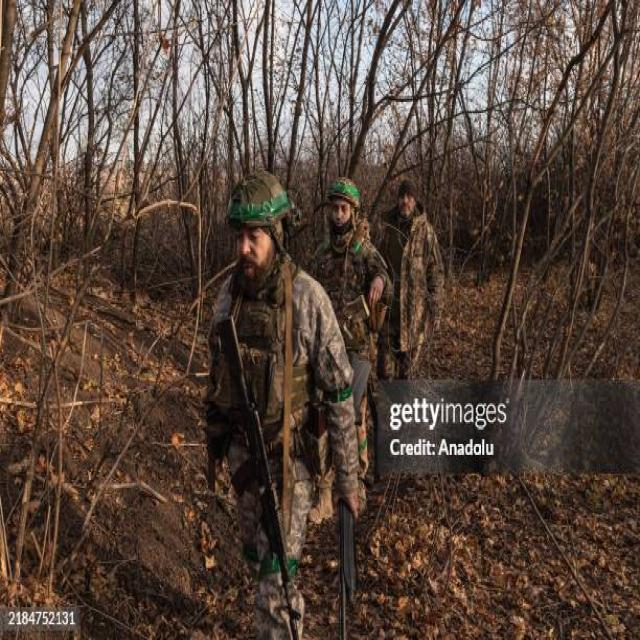Forest: (0, 0, 640, 640)
Militant: (201, 153, 360, 640), (313, 165, 390, 522), (377, 149, 456, 450)
